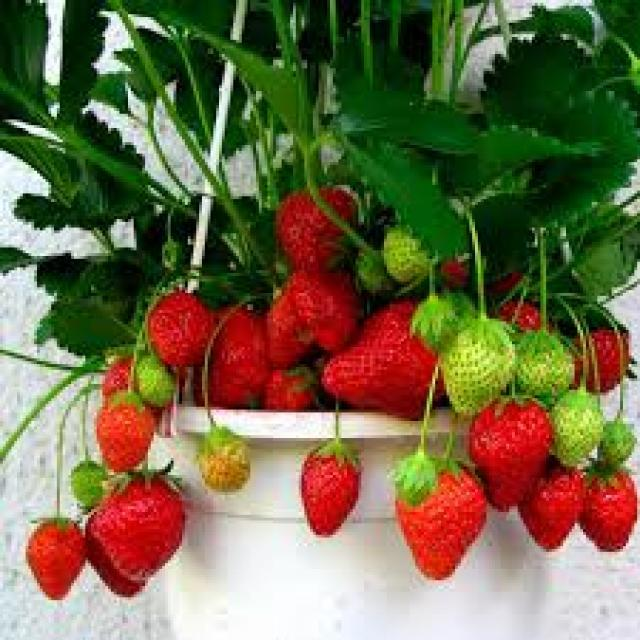Fruta sana: (330, 295, 448, 418), (400, 454, 488, 581), (107, 472, 186, 580), (266, 272, 357, 364), (482, 394, 544, 516), (278, 186, 358, 272), (206, 299, 266, 411), (86, 505, 149, 597), (148, 290, 215, 370), (303, 452, 363, 536), (523, 464, 581, 550), (97, 394, 158, 474), (101, 354, 164, 426), (25, 523, 90, 591), (588, 468, 636, 554), (586, 320, 628, 400), (273, 372, 318, 409)
